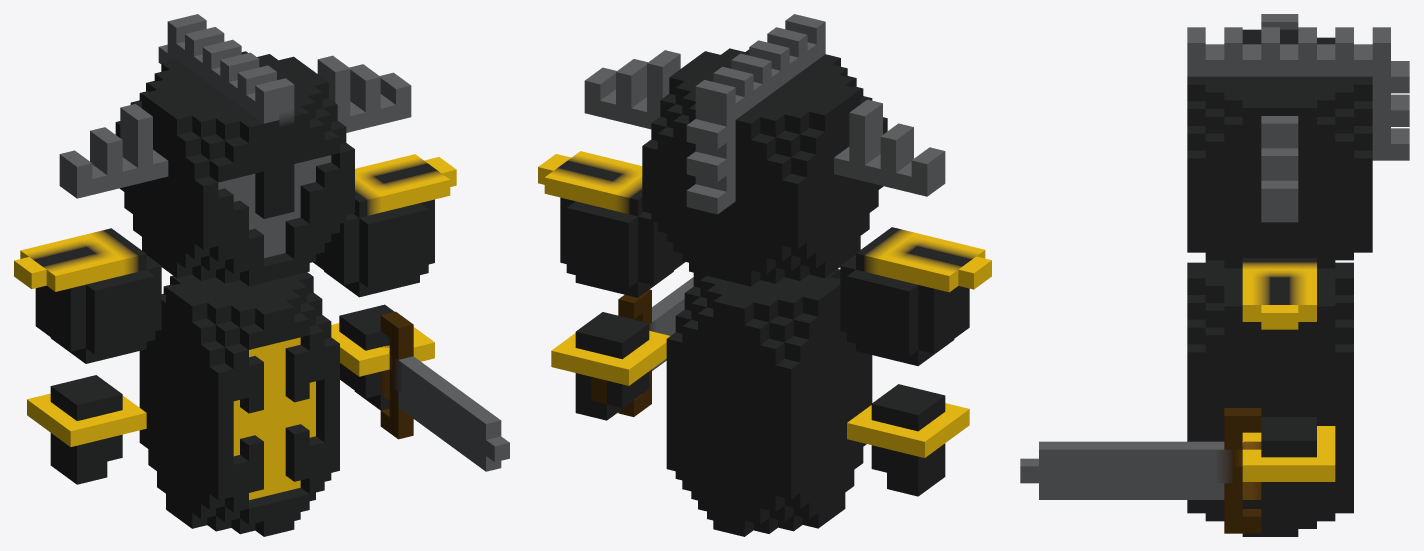
File: ChevalierNoir.dae
3 views of the same model, side by side, from view 1: azimuth 30°, elevation 25°; view 2: azimuth 150°, elevation 25°; view 3: azimuth 270°, elevation 25° (orthographic). The views are drawn at different scales.
Visible parts, largest first — view 1: Tete_CN, Corps_CN, Epaule_D_CN, Epaule_G_CN, Epee_CN, Main_D_CN, Main_G_CN; view 2: Tete_CN, Corps_CN, Epaule_D_CN, Epaule_G_CN, Main_D_CN, Main_G_CN, Epee_CN; view 3: Tete_CN, Corps_CN, Epee_CN, Epaule_G_CN, Main_G_CN.
Part boxes in pixels (x1,y1,x2,y2): Tete_CN: [59, 14, 411, 286]; Corps_CN: [139, 272, 339, 536]; Epaule_D_CN: [14, 228, 161, 363]; Epaule_G_CN: [313, 154, 456, 297]; Epee_CN: [380, 311, 509, 471]; Main_D_CN: [27, 375, 146, 484]; Main_G_CN: [331, 304, 434, 410]; Tete_CN: [584, 14, 945, 286]; Corps_CN: [666, 269, 872, 536]; Epaule_D_CN: [840, 227, 991, 365]; Epaule_G_CN: [538, 151, 684, 297]; Main_D_CN: [847, 384, 969, 496]; Main_G_CN: [551, 312, 669, 420]; Epee_CN: [591, 277, 693, 416]; Tete_CN: [1187, 14, 1409, 268]; Corps_CN: [1187, 260, 1353, 536]; Epee_CN: [1020, 408, 1261, 533]; Epaule_G_CN: [1224, 258, 1335, 390]; Main_G_CN: [1242, 417, 1335, 524].
Size of the model in its own units: 28 by 28 by 21.
1 material, 1 textured.
